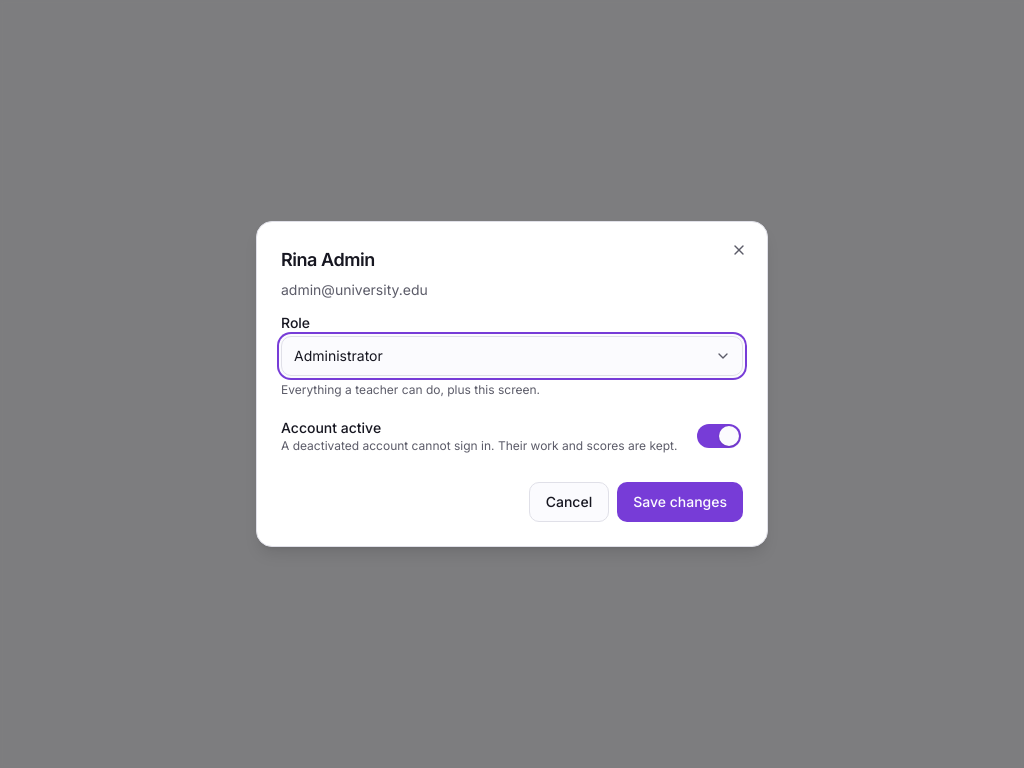
Test: changing what someone may do › refuses to let an administrator remove their own role, and says why
Select "Teacher" in the dropdown labelled "Role" at (512, 356), box [281,336,743,376]
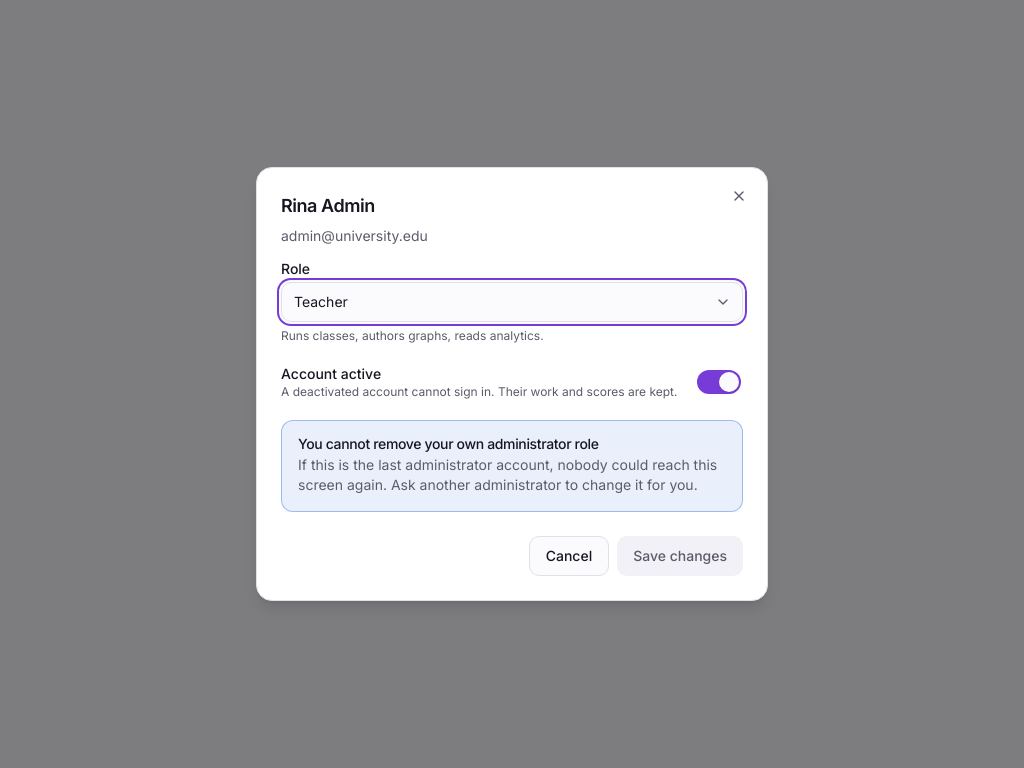
Expected: the heading "You cannot remove your own administrator role" is shown, [298,435,599,452]
Expected: the button "Save changes" is disabled, [617,536,743,576]
